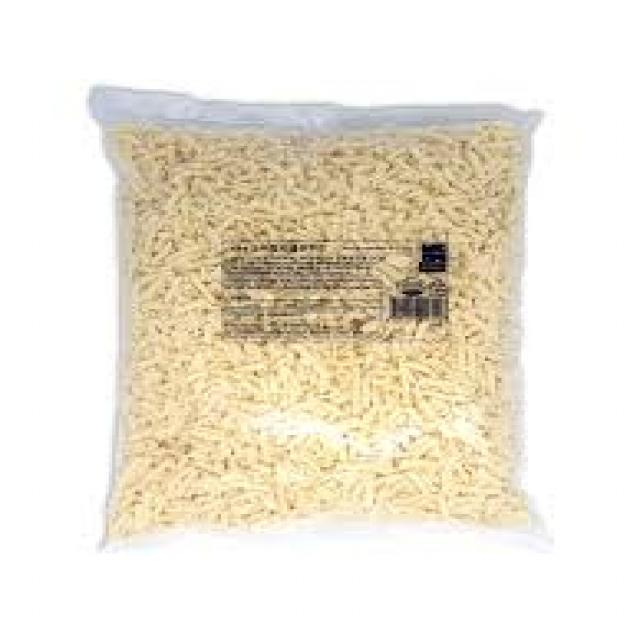Cheese: (122, 141, 511, 517)
